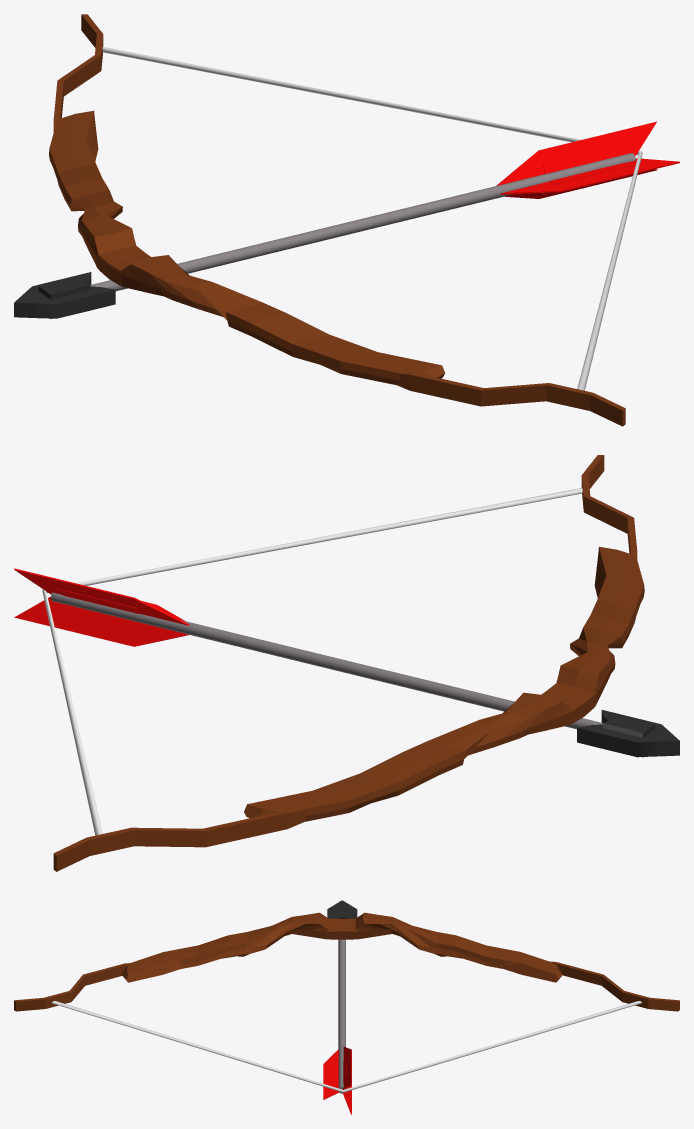
Rendered from BowFBXNew.fbx.
3 views of the same model, one above another, from view 1: azimuth 30°, elevation 25°; view 2: azimuth 150°, elevation 25°; view 3: azimuth 270°, elevation 25° (orthographic). The views are drawn at different scales.
Parts seen in each view (by area): view 1: Bow, Arrow; view 2: Bow, Arrow; view 3: Bow, Arrow.
Part boxes in pixels (box(x1,y1,x2,y2)): Bow: box(49, 14, 642, 426); Arrow: box(14, 121, 679, 318); Bow: box(42, 455, 644, 871); Arrow: box(14, 568, 679, 757); Bow: box(14, 912, 679, 1092); Arrow: box(323, 900, 357, 1114).
Bounding box in the file's own units: 3240 × 287 × 4670.
